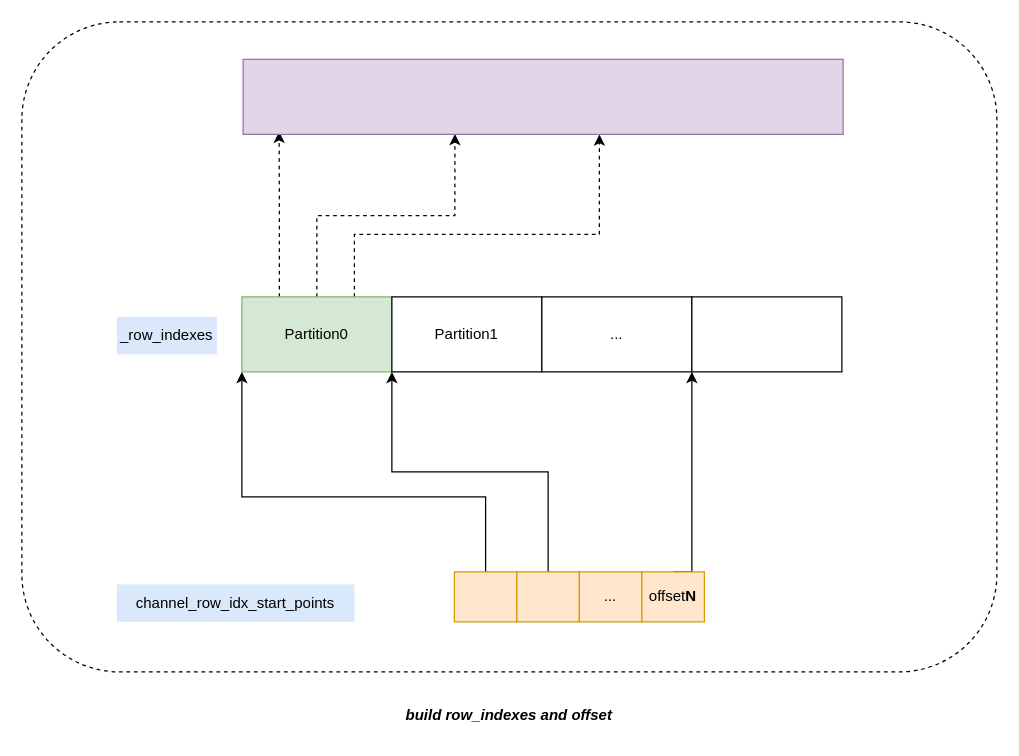
Some shapes in this 1019 by 756 pixel diagram are drawn without their labels. The shapes that lost their labels are listed below. From the top down, each one's centre as x and y in pixels, then its label:
At (x=542, y=96): "Chunk".
At (x=766, y=334): "Partition N".
At (x=485, y=596): "offset0".
At (x=547, y=596): "offse1".
